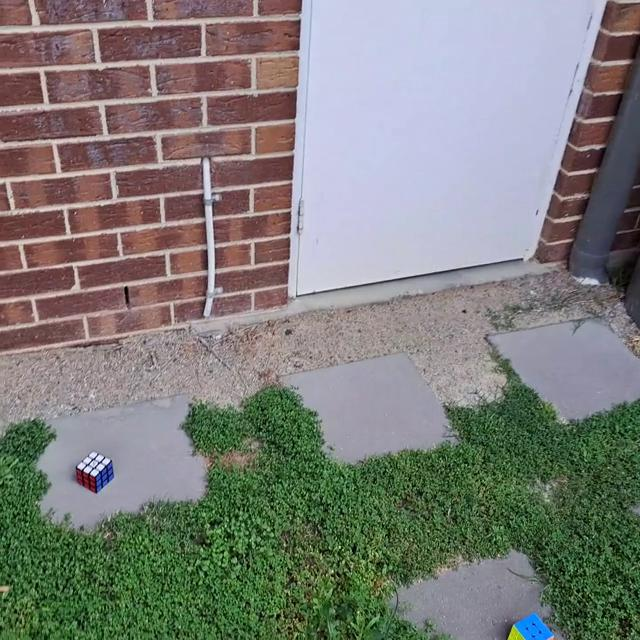rubix_cube: (75, 449, 116, 496), (504, 610, 558, 640)
